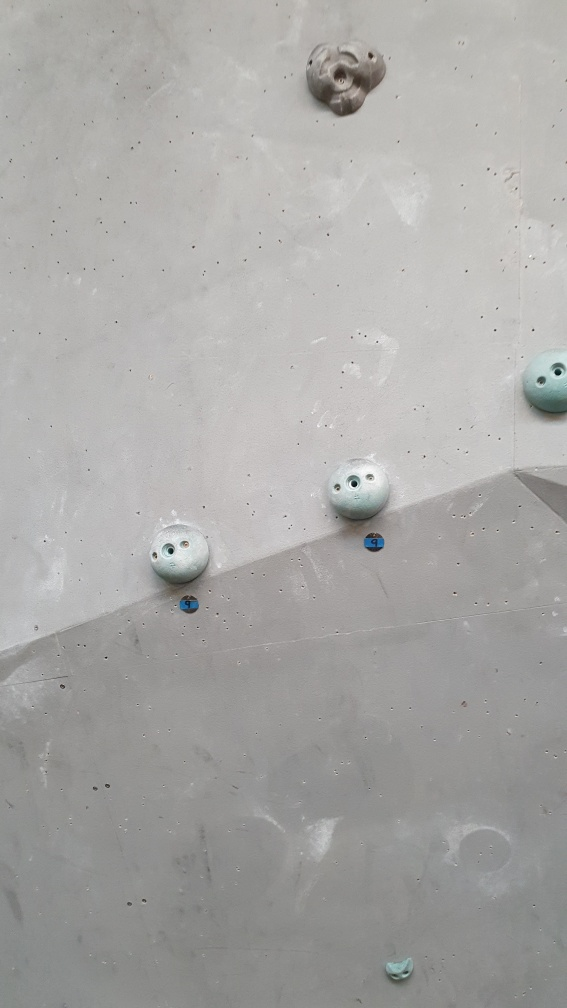Hand Start: (362, 527, 389, 556), (178, 596, 202, 617)
Jug: (301, 30, 392, 120)
Sloper: (328, 454, 396, 528), (147, 517, 214, 589), (522, 339, 567, 422)
